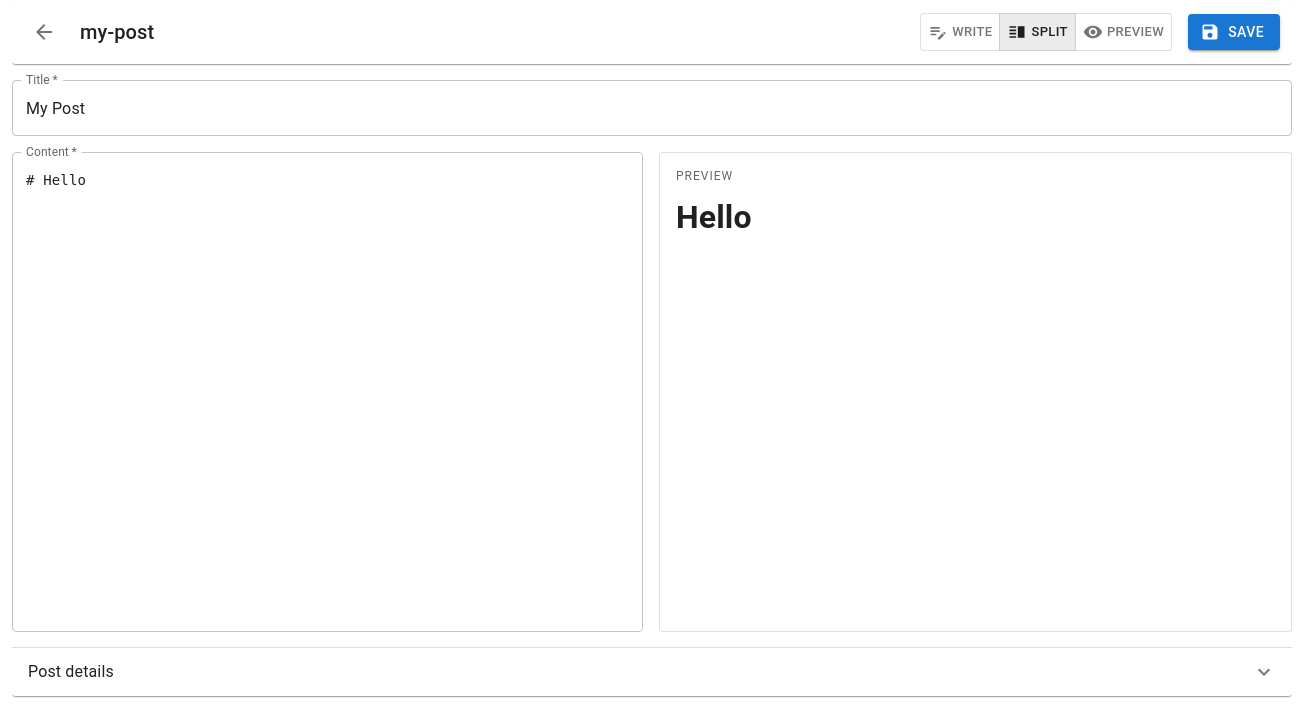
EditPost page › switches between the editor and the rendered preview
Expected: the text box showing "# Hello" is shown, [26,168,629,616]
Click the button with aria-label "Preview only" at {"x": 1124, "y": 32}, box [1075,13,1172,51]
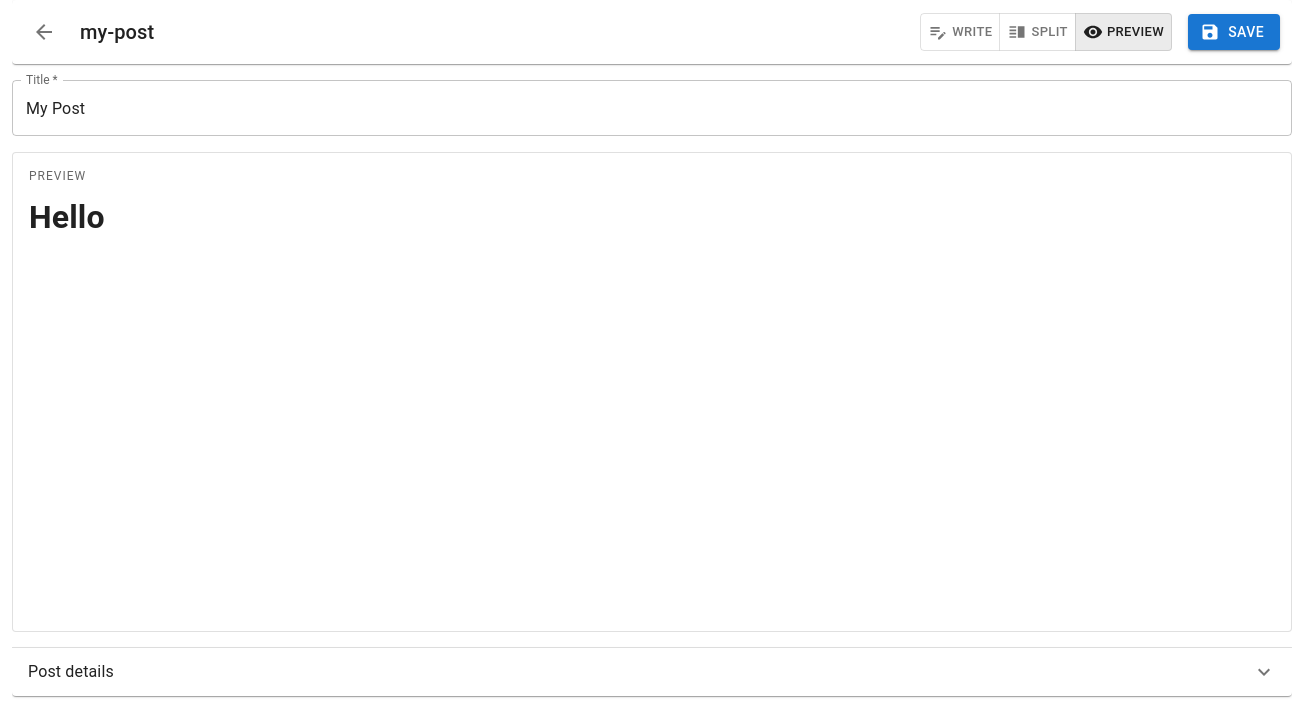
Expected: the field showing "# Hello" is not shown
Expected: the heading "Hello" is shown, [29,198,105,236]
Click the button with aria-label "Editor only" at {"x": 960, "y": 32}, box [920,13,1000,51]
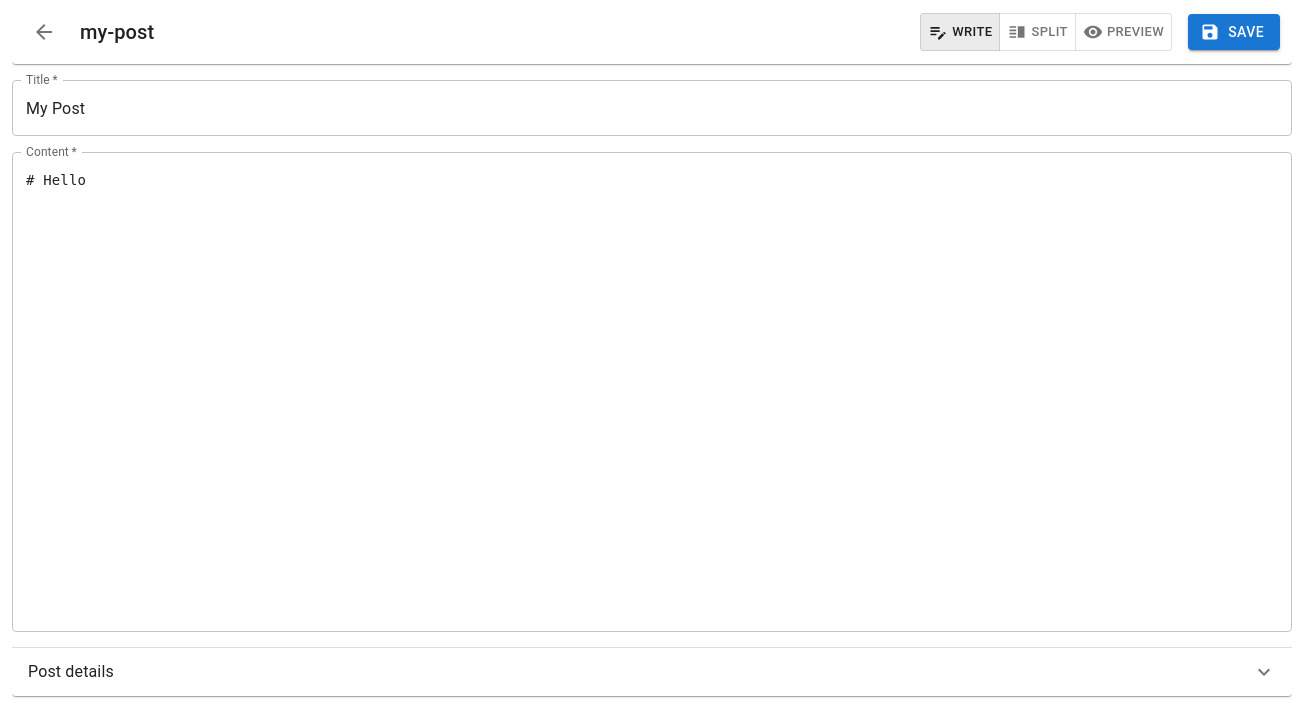
Expected: the text box showing "# Hello" is shown, [26,168,1278,616]
